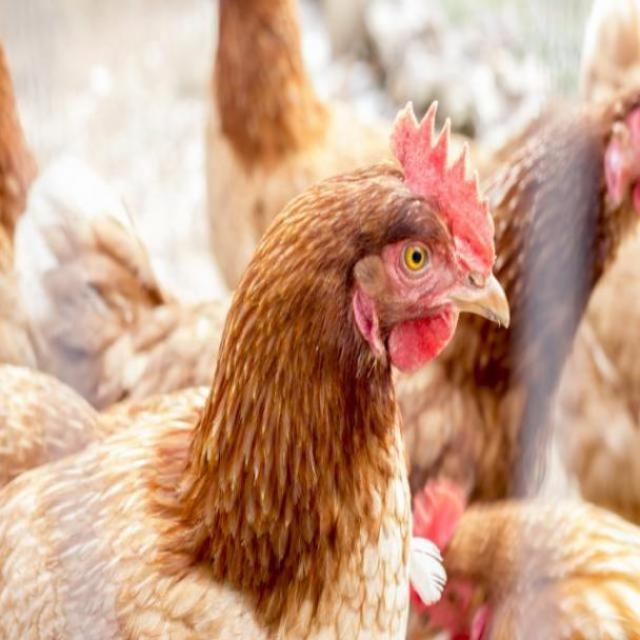Chicken: (0, 105, 505, 639), (406, 94, 640, 527), (200, 0, 401, 297)
